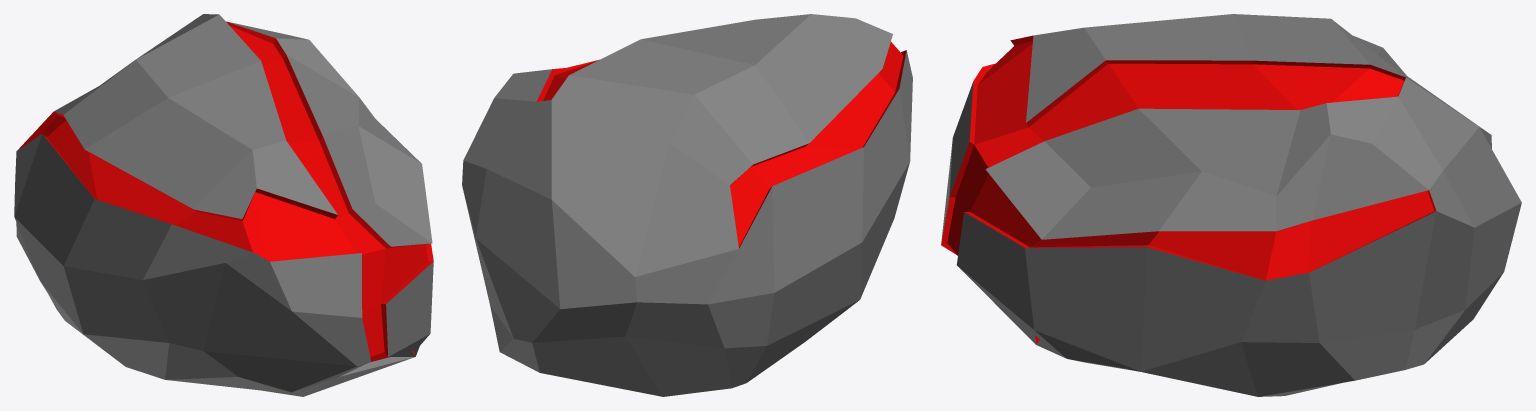
File: MineralNode_11_C.fbx
The picture shows the model from 3 angles, left to right: view 1: azimuth 30°, elevation 25°; view 2: azimuth 150°, elevation 25°; view 3: azimuth 270°, elevation 25°; orthographic projection. The views are drawn at different scales.
Visible parts, largest first — view 1: MineralNode_11_C; view 2: MineralNode_11_C; view 3: MineralNode_11_C.
Part boxes in pixels (box(x1,y1,x2,y2)): MineralNode_11_C: box(14, 14, 433, 396); MineralNode_11_C: box(462, 14, 912, 396); MineralNode_11_C: box(941, 14, 1521, 396).
Size of the model in its own units: 77.67 by 59.42 by 103.
